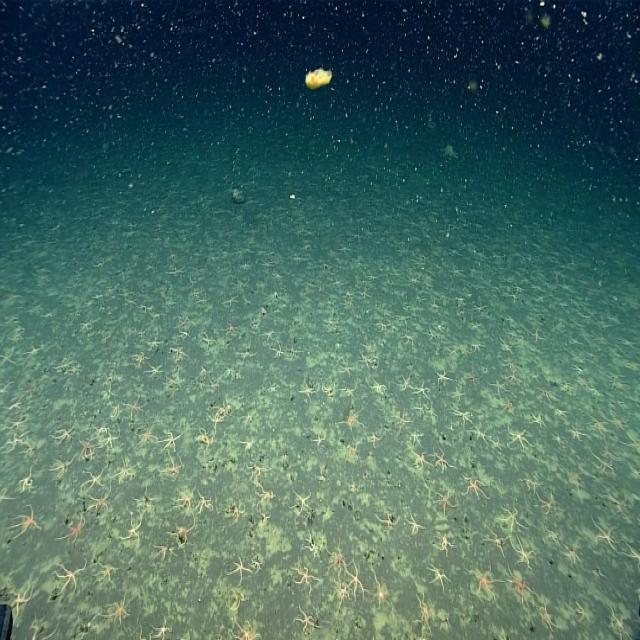brittle-stars: (503, 566, 536, 608), (7, 580, 35, 624), (468, 564, 501, 601), (10, 506, 40, 542), (53, 563, 86, 595), (589, 517, 620, 551), (412, 594, 434, 636), (326, 542, 355, 573), (56, 513, 84, 545), (508, 537, 536, 569), (225, 553, 252, 586), (108, 459, 142, 485), (496, 502, 526, 530), (293, 562, 319, 593), (0, 433, 34, 456), (346, 559, 365, 600), (103, 595, 130, 623), (460, 476, 489, 502), (609, 603, 629, 640), (369, 571, 389, 607), (166, 522, 196, 546), (425, 565, 451, 592), (47, 454, 77, 477), (85, 487, 112, 512), (294, 606, 319, 632), (92, 563, 120, 586), (336, 413, 366, 434), (27, 621, 60, 640), (506, 427, 532, 451), (481, 531, 507, 555), (602, 489, 626, 515), (134, 421, 157, 447), (150, 613, 172, 640), (228, 621, 259, 640), (178, 484, 196, 516), (123, 513, 142, 543), (592, 450, 613, 477), (161, 455, 184, 479), (289, 491, 312, 514), (196, 426, 216, 452), (81, 471, 103, 494), (304, 536, 325, 560), (49, 426, 76, 444), (122, 396, 144, 418), (434, 492, 454, 516), (536, 494, 560, 514), (157, 433, 182, 452), (245, 462, 274, 478), (152, 544, 176, 563), (541, 607, 559, 632), (99, 428, 121, 448), (563, 544, 582, 567), (254, 484, 272, 508), (0, 417, 27, 433), (410, 449, 430, 470), (432, 538, 456, 555), (388, 412, 412, 429), (229, 589, 245, 613), (621, 542, 640, 562), (403, 516, 424, 534), (377, 512, 400, 528), (572, 602, 590, 622), (451, 408, 471, 426), (591, 416, 609, 436), (79, 439, 94, 463), (395, 375, 416, 392), (196, 492, 212, 514), (20, 467, 32, 496), (433, 452, 451, 471), (358, 353, 377, 371), (424, 324, 442, 343), (16, 384, 36, 401), (569, 427, 591, 442), (434, 366, 452, 384), (488, 378, 508, 394), (522, 477, 543, 492), (164, 372, 182, 389), (608, 413, 626, 430), (622, 433, 640, 450), (205, 412, 224, 428), (345, 443, 361, 462), (239, 343, 256, 360), (499, 400, 516, 417), (544, 526, 560, 544), (536, 385, 554, 401), (131, 351, 150, 366), (168, 345, 187, 360), (23, 345, 42, 360), (300, 380, 314, 400), (413, 383, 429, 400), (529, 411, 545, 428), (408, 432, 425, 448), (222, 322, 240, 337), (0, 348, 15, 366), (144, 362, 163, 376), (472, 426, 488, 442), (228, 504, 245, 519), (465, 373, 483, 387), (213, 403, 231, 417), (321, 316, 339, 330), (370, 380, 385, 396), (0, 487, 15, 503), (506, 373, 522, 388), (0, 380, 15, 396), (201, 332, 215, 349), (146, 336, 163, 350), (101, 386, 116, 401), (270, 344, 286, 358), (250, 559, 263, 576), (499, 338, 512, 355), (338, 362, 353, 376), (286, 345, 302, 358), (166, 266, 184, 277), (261, 328, 275, 342), (322, 382, 335, 397), (371, 432, 383, 448), (310, 434, 326, 446), (400, 333, 416, 345), (425, 408, 438, 422), (4, 402, 21, 412), (224, 295, 238, 307), (240, 439, 254, 451), (249, 316, 260, 331), (160, 296, 176, 306), (178, 328, 190, 341), (208, 379, 219, 392), (555, 408, 569, 418), (342, 388, 356, 398), (179, 316, 190, 328), (452, 389, 465, 399), (268, 383, 278, 396), (138, 626, 147, 640), (376, 322, 390, 331), (196, 297, 210, 306), (110, 405, 121, 416), (95, 428, 106, 439), (460, 348, 472, 358), (472, 304, 486, 312), (80, 322, 92, 331), (416, 404, 424, 417), (104, 373, 113, 384), (470, 344, 484, 350)
